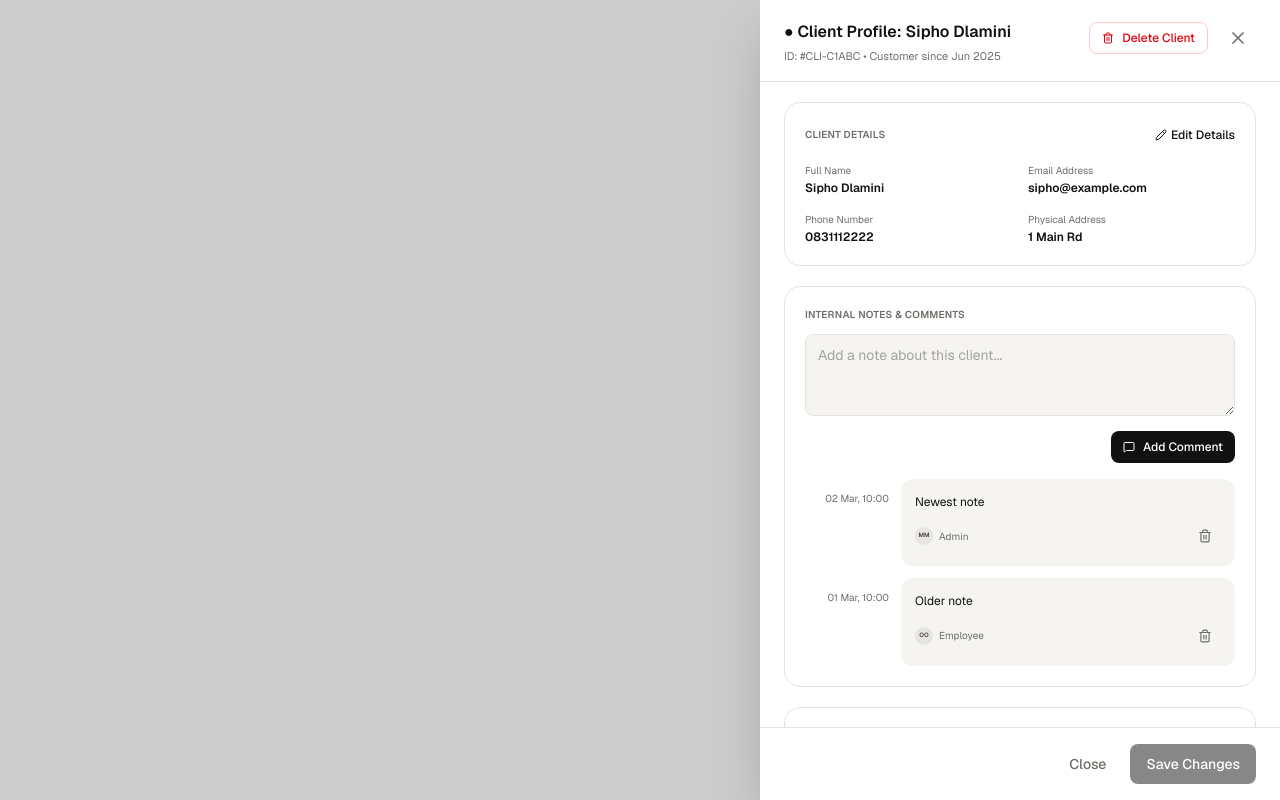
Test: deleting the client › can be cancelled
Expected: the heading "● Client Profile: Sipho Dlamini" is shown, [784, 20, 1011, 44]
Click the button "Delete Client": {"x": 1149, "y": 38} [1089, 22, 1208, 54]
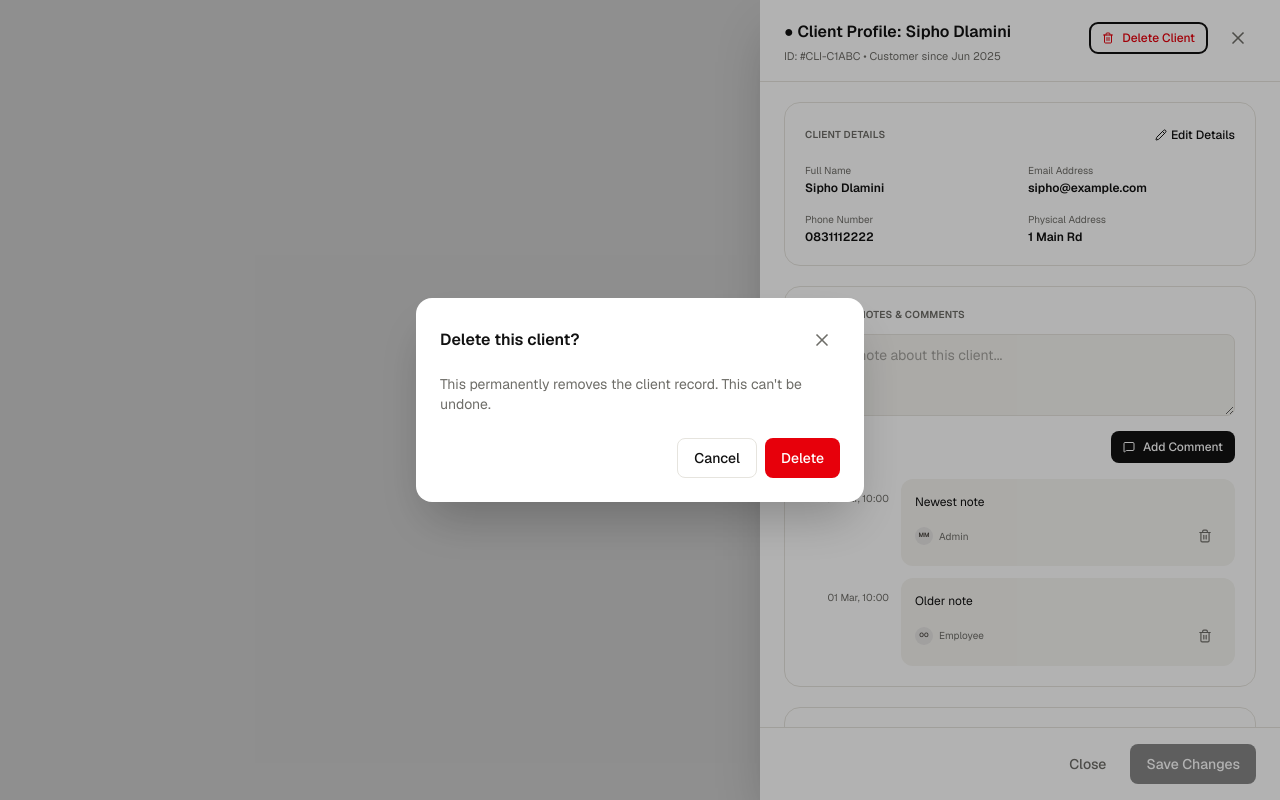
Click the button "Cancel": {"x": 717, "y": 458} [677, 438, 757, 478]
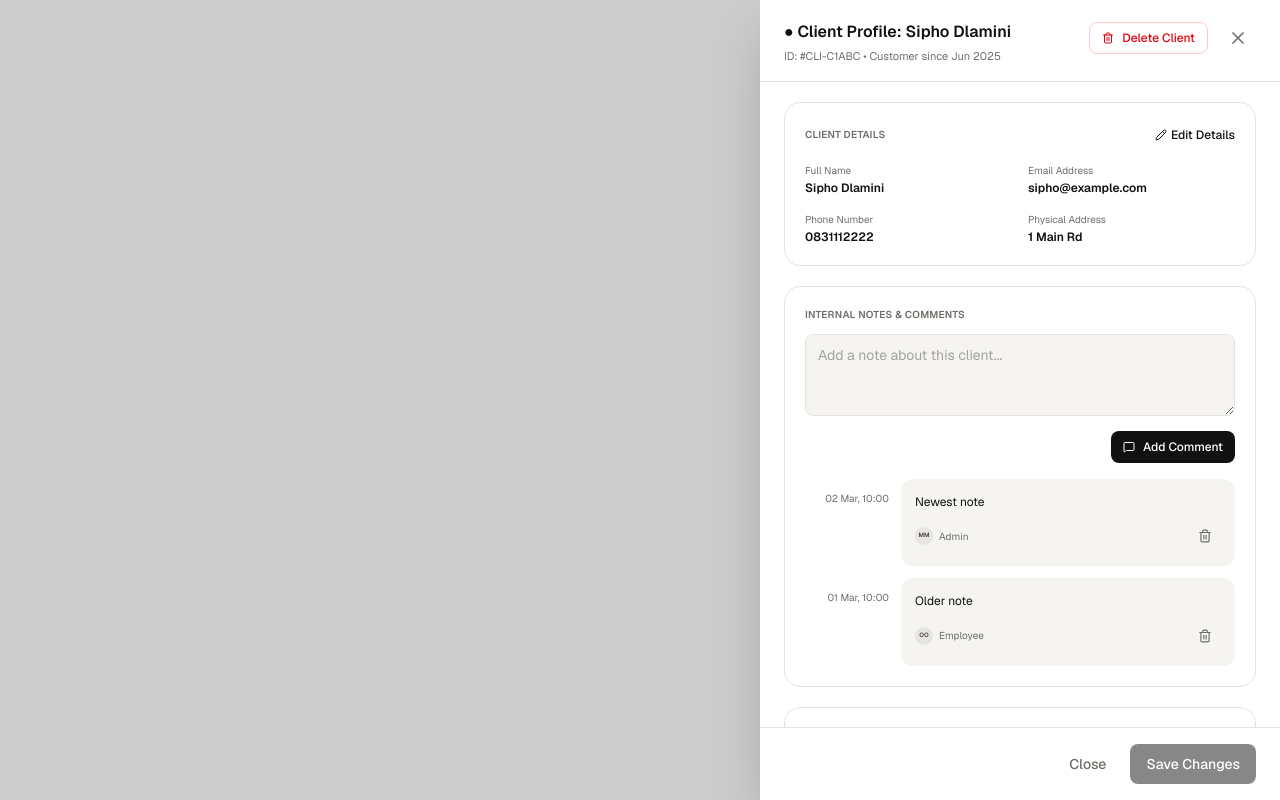
Now the heading "Delete this client?" is gone
